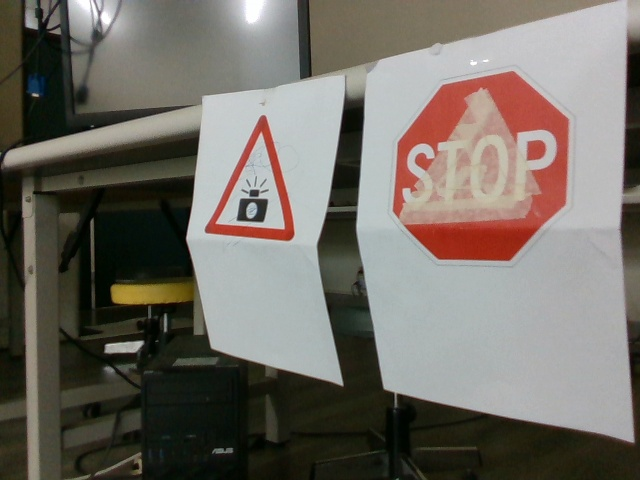camera: (203, 118, 296, 240)
stop: (396, 71, 566, 260)
